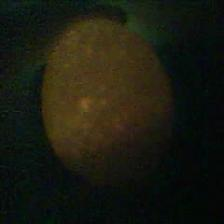fertile: (39, 11, 173, 184)
